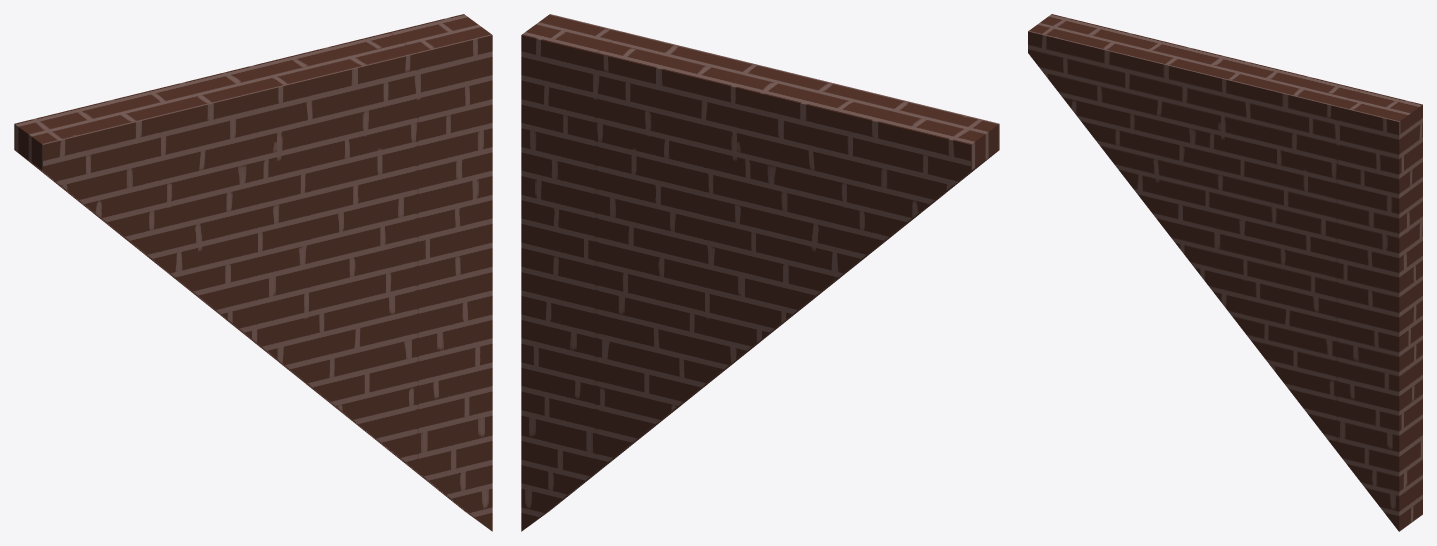
Rendered from wall11.FBX.
3 views of the same model, side by side, from view 1: azimuth 30°, elevation 25°; view 2: azimuth 150°, elevation 25°; view 3: azimuth 330°, elevation 25° (orthographic). The views are drawn at different scales.
Visible parts, largest first — view 1: wall11; view 2: wall11; view 3: wall11.
Part boxes in pixels (x1,y1,x2,y2): wall11: (14, 14, 492, 531); wall11: (521, 14, 999, 531); wall11: (1028, 14, 1422, 531).
Bounding box in the file's own units: 450 × 475 × 50.
Materials: 1 (1 with a texture image).
